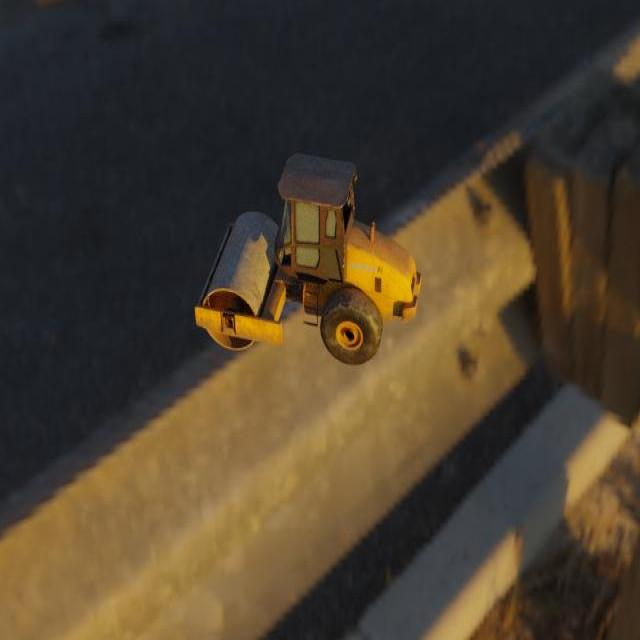Roller: (194, 152, 421, 365)
